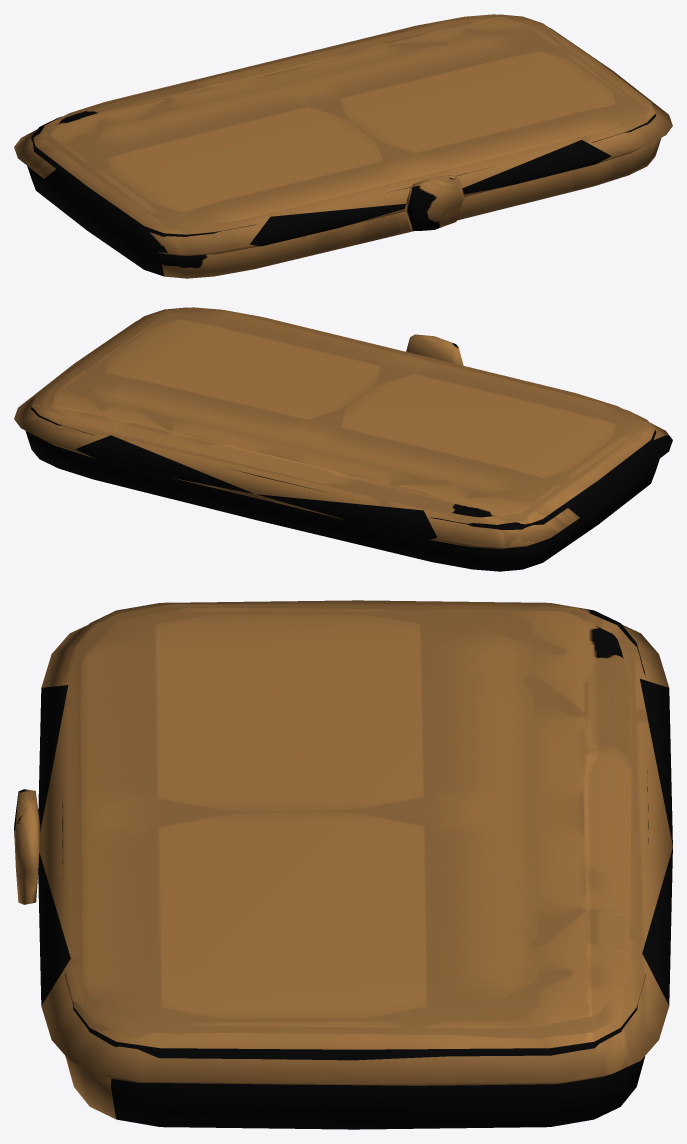
The model's file is Atalanta_Cintura.fbx.
3 views of the same model, one above another, from view 1: azimuth 30°, elevation 25°; view 2: azimuth 150°, elevation 25°; view 3: azimuth 270°, elevation 25° (orthographic). The views are drawn at different scales.
Visible parts, largest first — view 1: Atalanta_Cintura; view 2: Atalanta_Cintura; view 3: Atalanta_Cintura.
Part boxes in pixels (x1,y1,x2,y2): Atalanta_Cintura: (14, 14, 672, 278); Atalanta_Cintura: (14, 307, 672, 571); Atalanta_Cintura: (14, 600, 672, 1129).
Size of the model in its own units: 2.26 by 0.2674 by 1.33.
